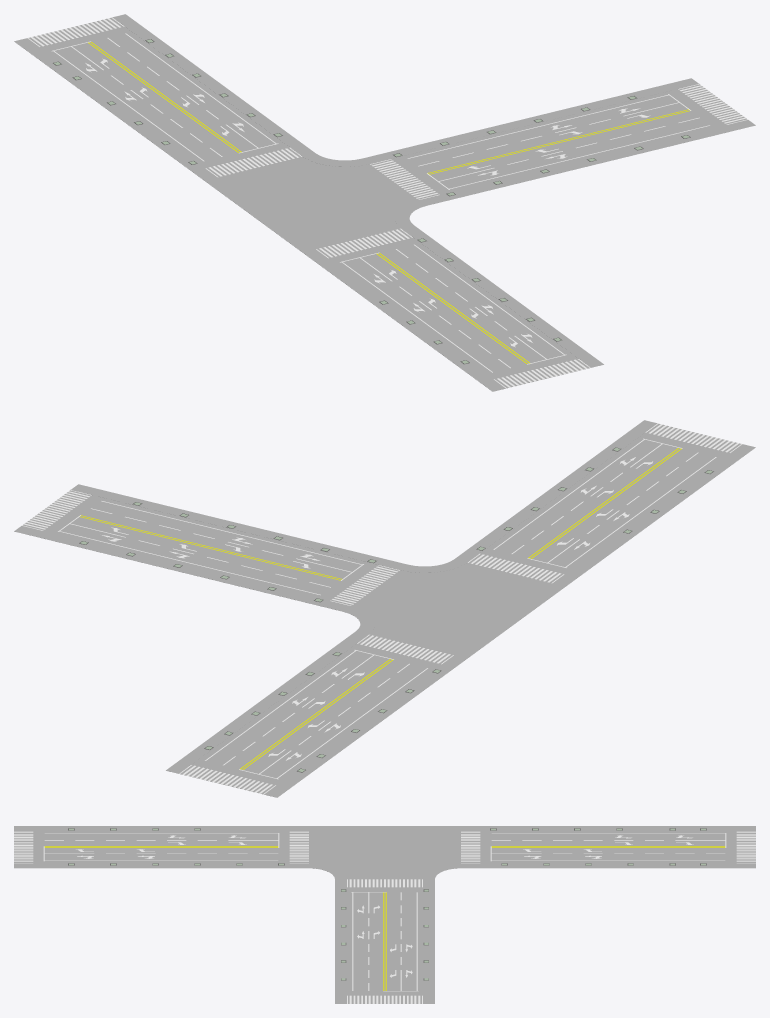
Rendered from road_1.gltf.
3 views of the same model, one above another, from view 1: azimuth 30°, elevation 25°; view 2: azimuth 150°, elevation 25°; view 3: azimuth 270°, elevation 25° (orthographic). The views are drawn at different scales.
Visible parts, largest first — view 1: 道路07; view 2: 道路07; view 3: 道路07.
Boxes of the visible parts, left/top/right/bottom form: 道路07: left=14, top=14, right=755, bottom=391; 道路07: left=14, top=420, right=755, bottom=797; 道路07: left=14, top=826, right=755, bottom=1003.
Bounding box in the file's own units: 88.5 × 0.0589 × 156.
6 materials, 1 textured.
